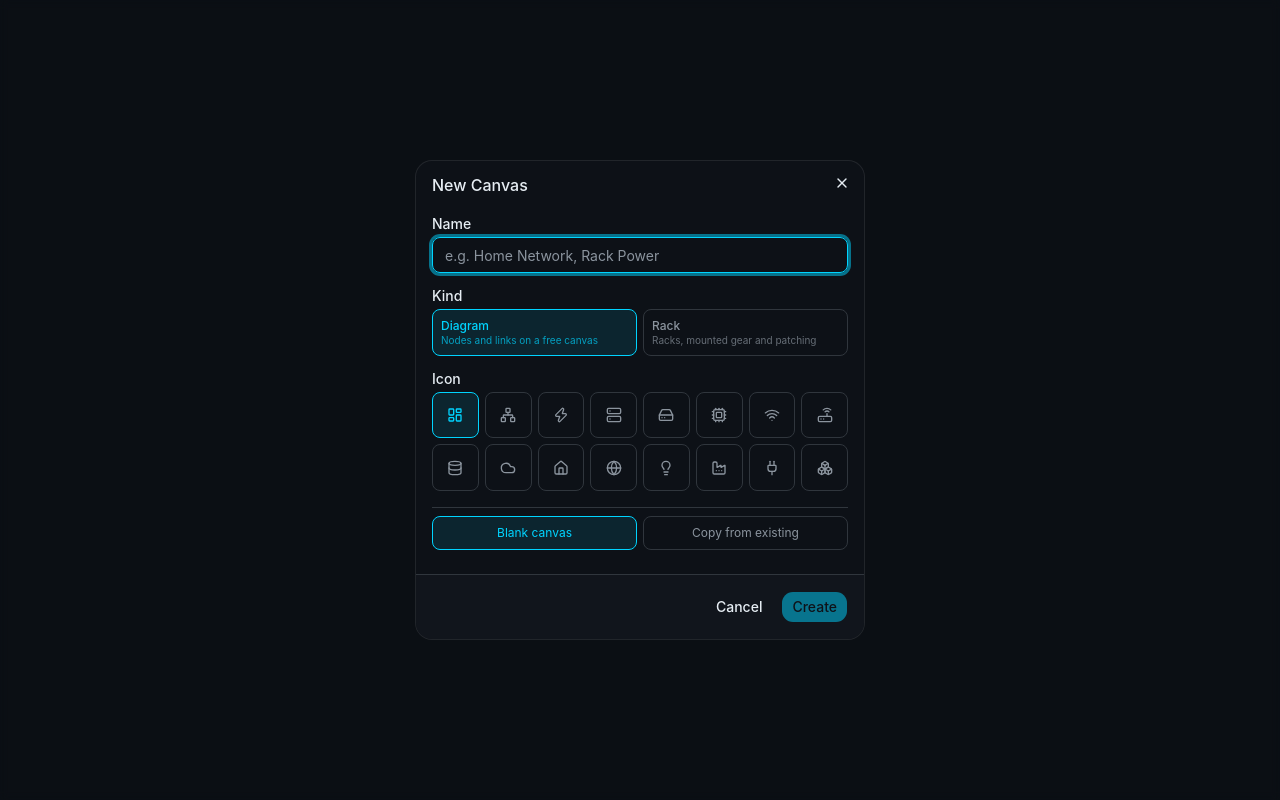
it: DesignModal › copy from existing › shows the source list with counts once "Copy from existing" is chosen
Step 1. Click the button "Copy from existing" → (746,533), box [643,516,848,550]
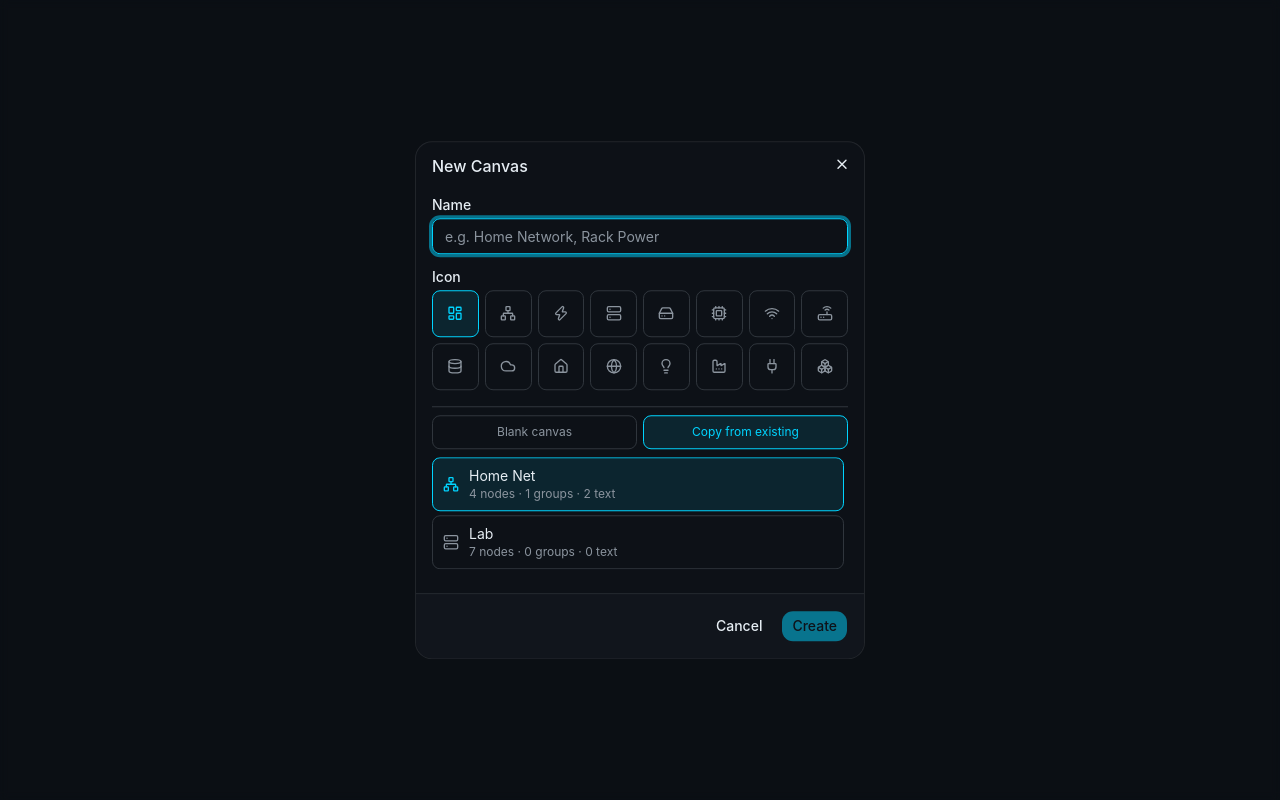
Check: the text "Home Net" is shown, box [469,467,536,484]
Check: the text "4 nodes · 1 groups · 2 text" is shown, box [469,486,615,501]
Check: the text "7 nodes · 0 groups · 0 text" is shown, box [469,544,617,559]
